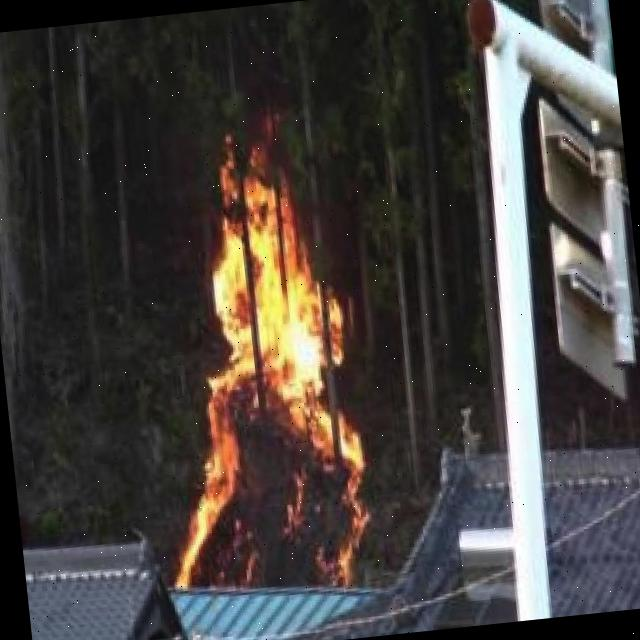fire: (140, 128, 382, 602)
